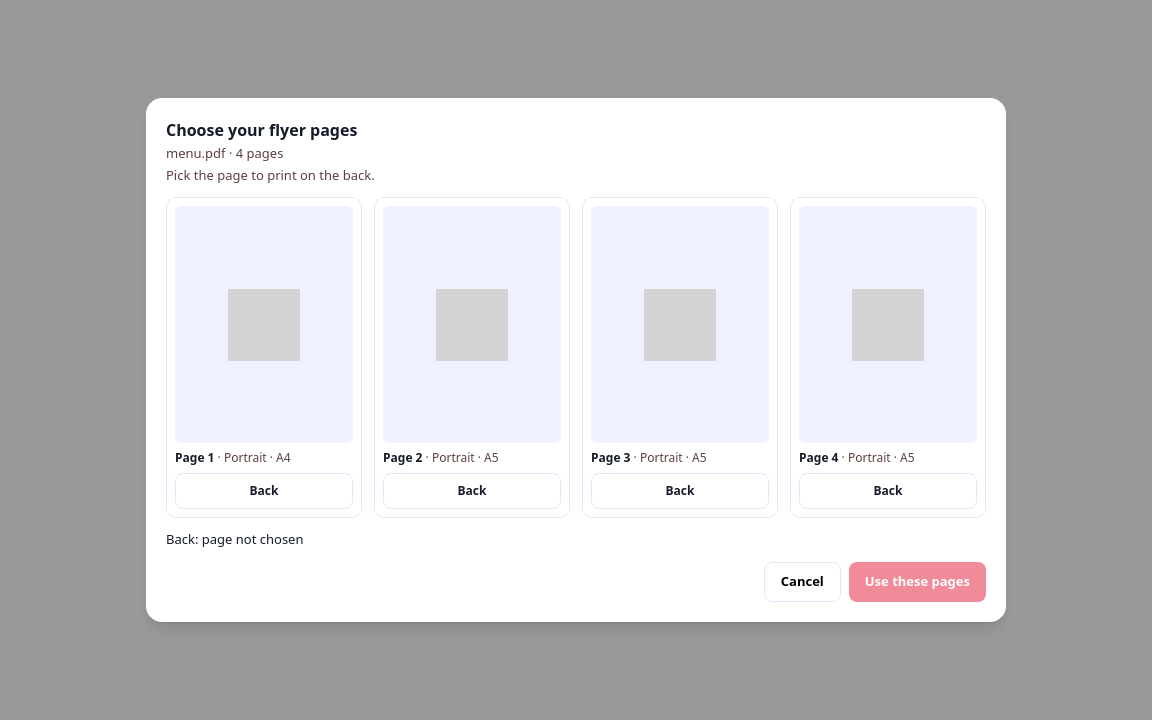
PagePicker: one side only › Back only: says why a page of another Size cannot be the Back
Click the button with aria-label "Use page 1 as Back" at (264, 491), box left=175, top=473, right=353, bottom=509
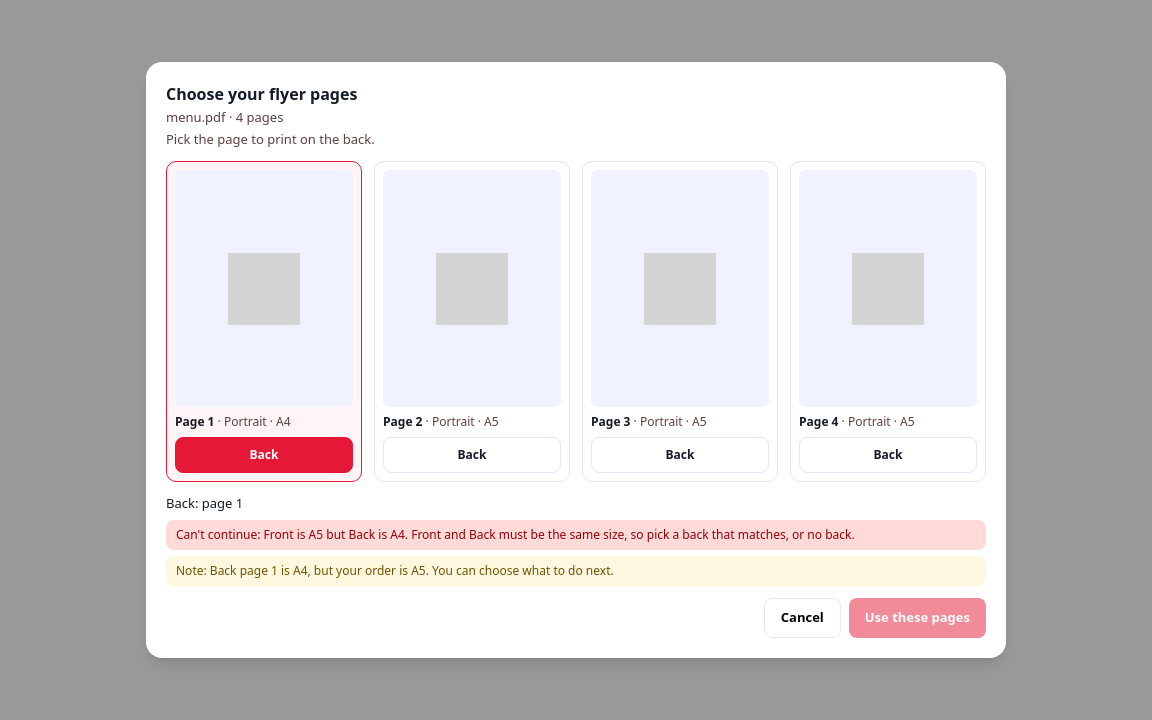
Expected: the button "Use these pages" is disabled, left=849, top=598, right=986, bottom=638
Now the message that starts with "Can't continue:" shows "Front is A5 but Back is A4", box left=264, top=526, right=855, bottom=543
